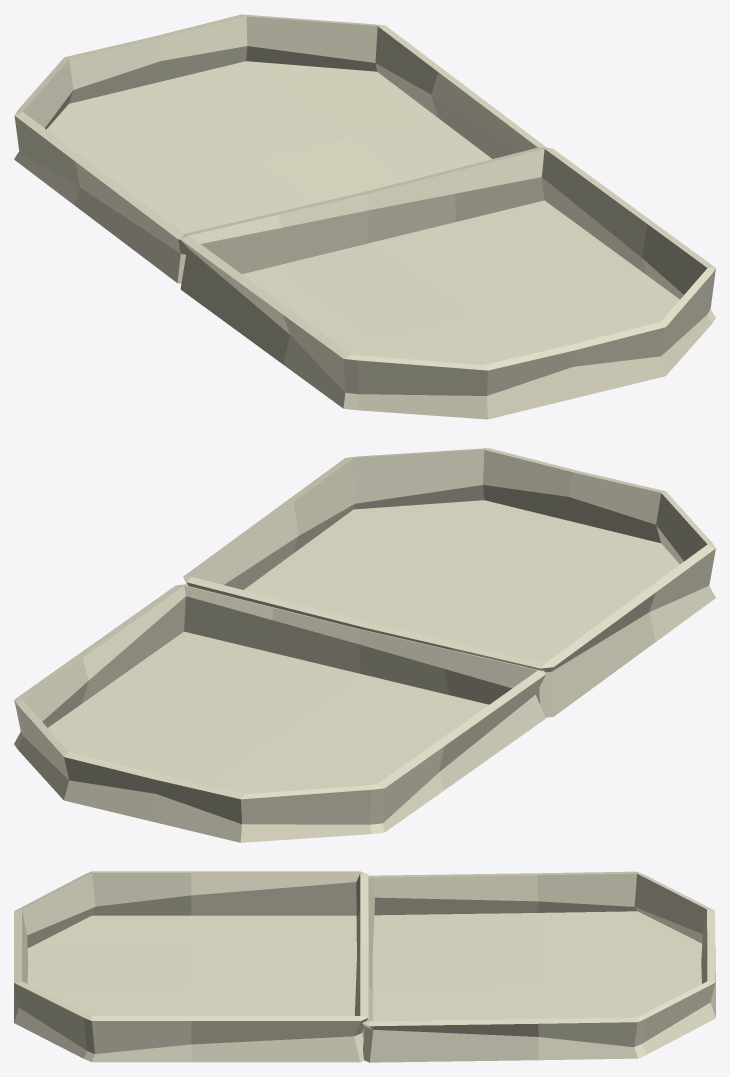
File: PizzaBox_Open.fbx
The picture shows the model from 3 angles, top to bottom: view 1: azimuth 30°, elevation 25°; view 2: azimuth 150°, elevation 25°; view 3: azimuth 270°, elevation 25°; orthographic projection. The views are drawn at different scales.
Visible parts, largest first — view 1: PizzaBox_Open; view 2: PizzaBox_Open; view 3: PizzaBox_Open.
Boxes of the visible parts, x1,y1,x2,y2 form: PizzaBox_Open: (14,14,715,419); PizzaBox_Open: (14,448,715,842); PizzaBox_Open: (14,871,715,1062).
Bounding box in the file's own units: 197 × 27.21 × 388.
